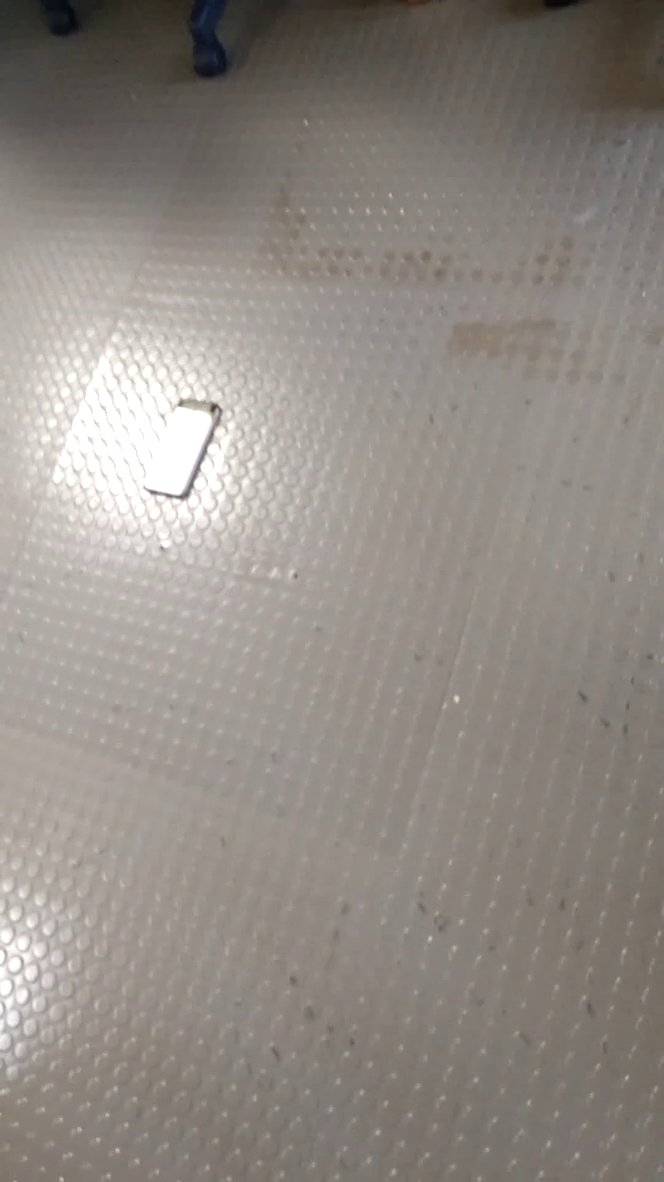phone: (138, 385, 235, 508)
